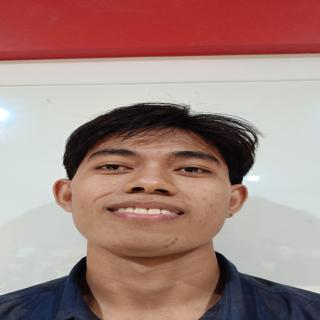Senang: (65, 121, 250, 264)
